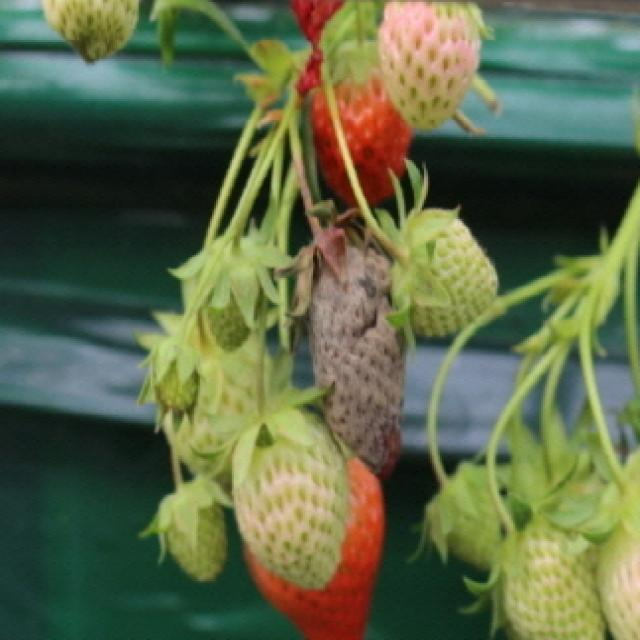Gray Mold: (274, 208, 408, 479)
